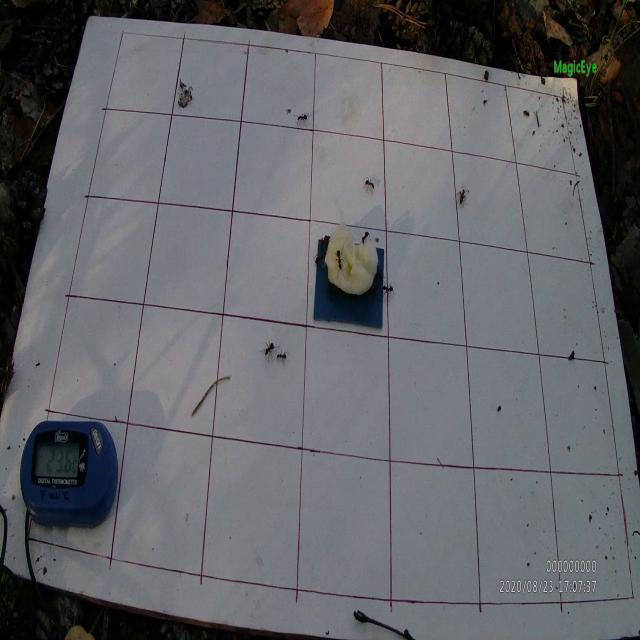Ant: (334, 242, 346, 282), (260, 340, 276, 363), (294, 110, 312, 128), (382, 280, 396, 302), (456, 186, 469, 208), (274, 348, 289, 364), (362, 175, 374, 195), (312, 250, 326, 266), (360, 232, 370, 242)
